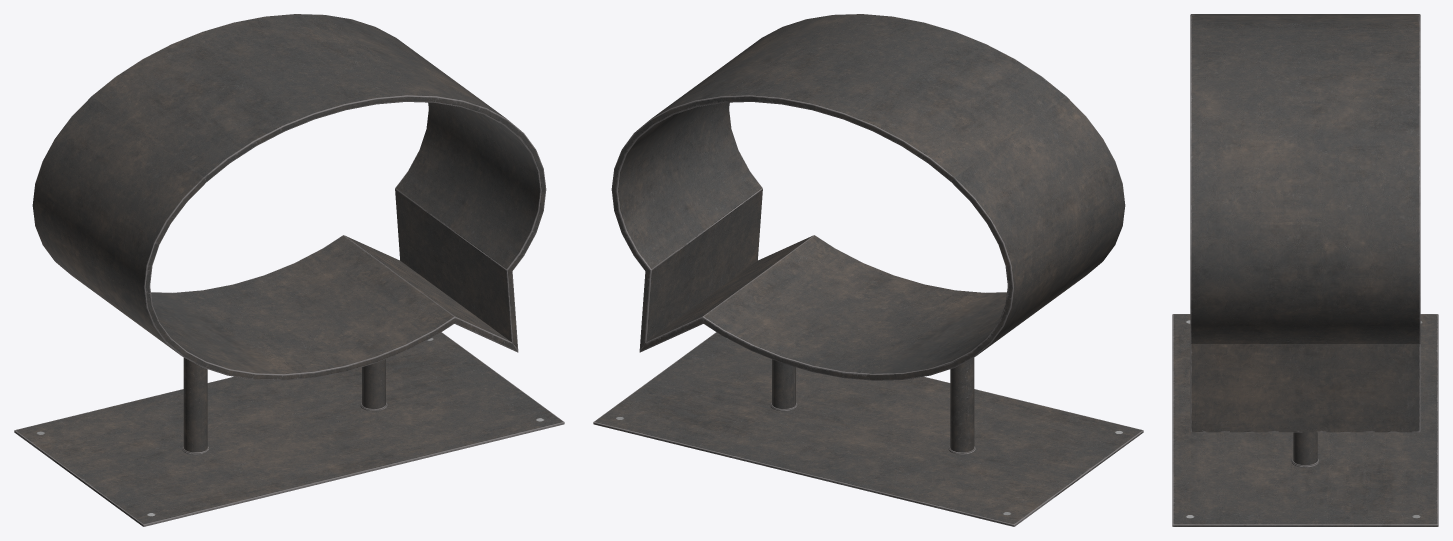
The model's file is ErnestAndRuth.glb.
The picture shows the model from 3 angles, left to right: view 1: azimuth 30°, elevation 25°; view 2: azimuth 150°, elevation 25°; view 3: azimuth 270°, elevation 25°; orthographic projection. The views are drawn at different scales.
Parts seen in each view (by area): view 1: SM_ErnestAndRuth; view 2: SM_ErnestAndRuth; view 3: SM_ErnestAndRuth.
Boxes of the visible parts, bbox=[...] form: SM_ErnestAndRuth: bbox=[14, 14, 564, 526]; SM_ErnestAndRuth: bbox=[593, 14, 1143, 526]; SM_ErnestAndRuth: bbox=[1172, 14, 1438, 526].
Bounding box in the file's own units: 2.57 × 2.13 × 1.37.
Materials: 1 (1 with a texture image).
